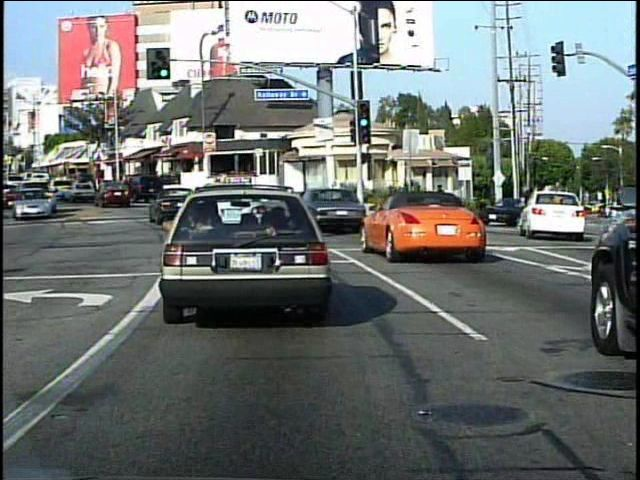person: (432, 182, 449, 221)
